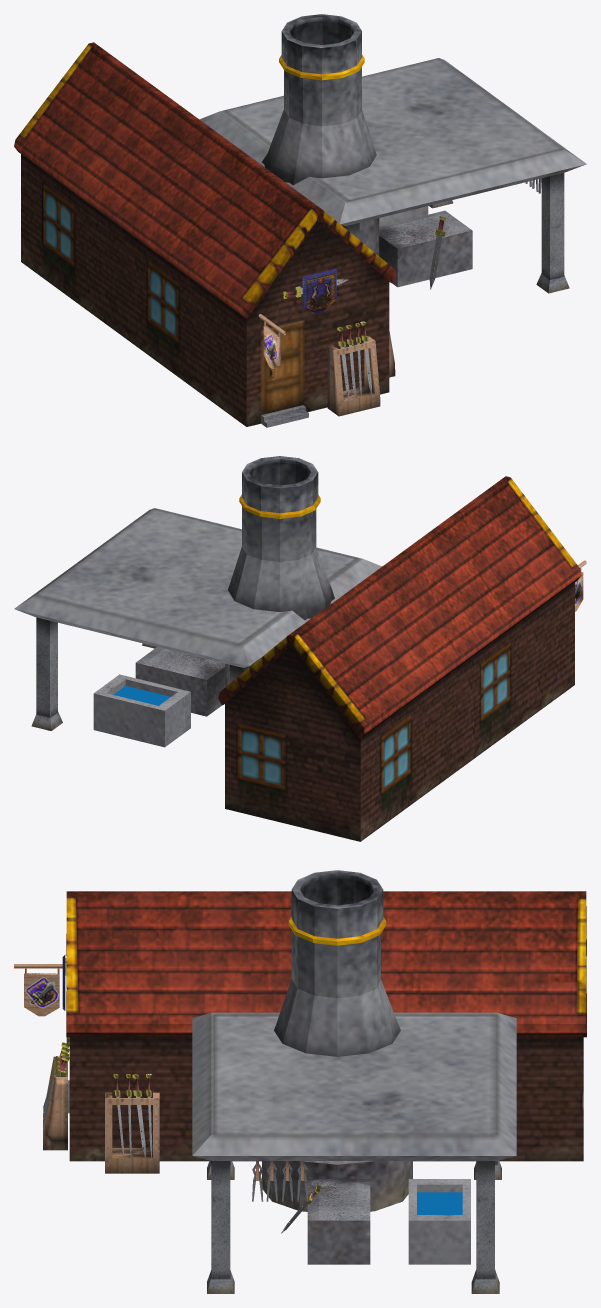
The model's file is kaziya.fbx.
The picture shows the model from 3 angles, top to bottom: view 1: azimuth 30°, elevation 25°; view 2: azimuth 150°, elevation 25°; view 3: azimuth 270°, elevation 25°; orthographic projection. The views are drawn at different scales.
Visible parts, largest first — view 1: polySurface47; view 2: polySurface47; view 3: polySurface47.
Part boxes in pixels (x1,y1,x2,y2): polySurface47: (14, 14, 586, 427); polySurface47: (14, 456, 586, 841); polySurface47: (14, 870, 586, 1293).
Size of the model in its own units: 929 by 585 by 1012.
